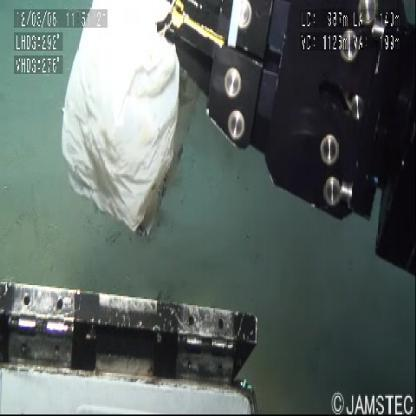Rov: (156, 1, 414, 272)
